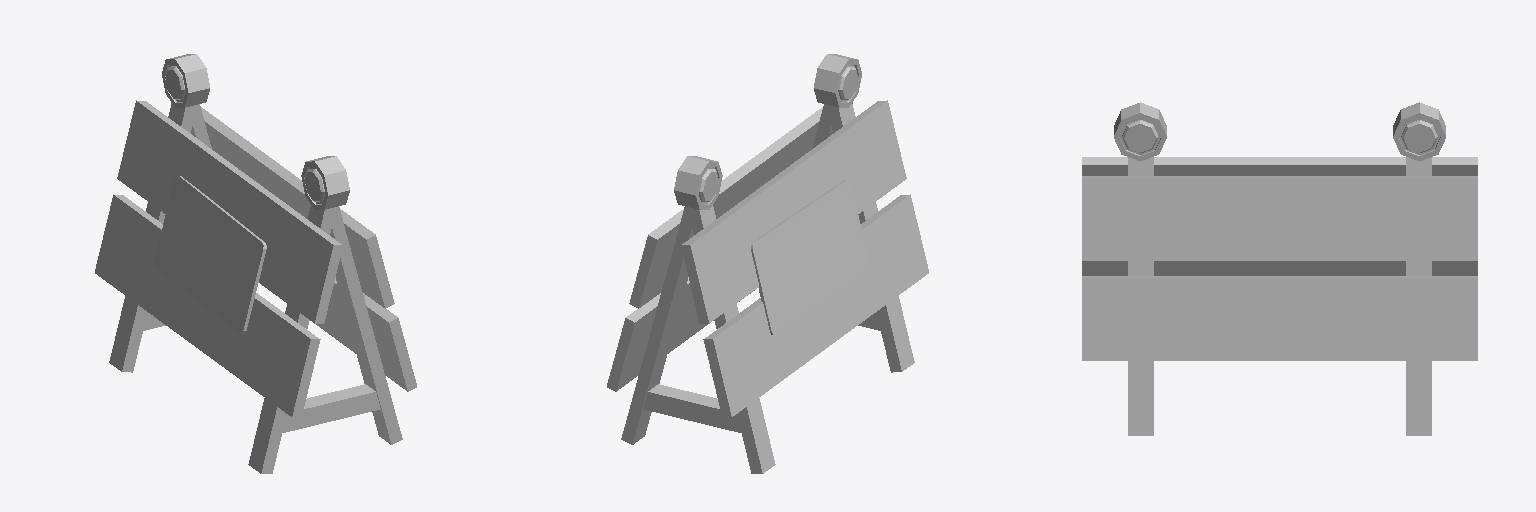
File: yoor_yool.obj
3 renders of one model, left to right at view 1: azimuth 30°, elevation 25°; view 2: azimuth 150°, elevation 25°; view 3: azimuth 270°, elevation 25°, orthographic.
Visible parts, largest first — view 1: Куб.002, yoor_yool, Куб.004, Цилиндр, Куб; view 2: Куб.002, yoor_yool, Куб.004, Цилиндр, Куб; view 3: Куб.002, Куб.004, Цилиндр.
Boxes of the visible parts, x1,y1,x2,y2 form: Куб.002: [95, 100, 416, 417]; yoor_yool: [154, 176, 266, 333]; Куб.004: [109, 104, 402, 473]; Цилиндр: [162, 54, 349, 209]; Куб: [143, 313, 380, 432]; Куб.002: [607, 100, 928, 417]; yoor_yool: [751, 180, 869, 334]; Куб.004: [621, 104, 914, 473]; Цилиндр: [674, 54, 861, 209]; Куб: [643, 313, 880, 432]; Куб.002: [1082, 157, 1477, 360]; Куб.004: [1128, 157, 1431, 435]; Цилиндр: [1114, 102, 1445, 161].
Size of the model in its own units: 1.26 by 2.53 by 3.05.